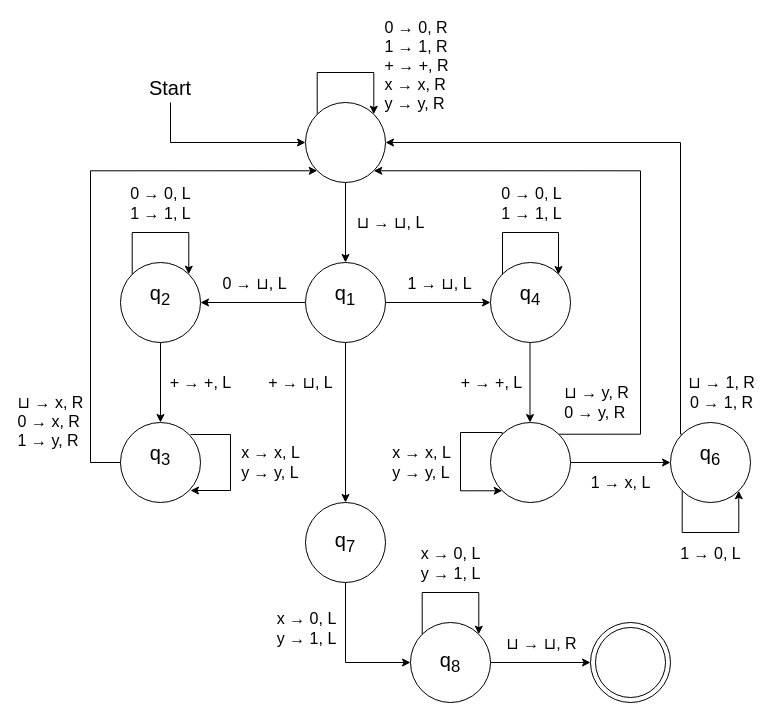
The diagram is 771 pixels wide and 720 high, and some of its shapes have lost their labels. The box of each missing label's shape, as (x1, y1, x2, y2) in pixels:
q 0: (304, 102, 386, 182)
q 5: (490, 422, 570, 502)
q a: (590, 622, 670, 702)
